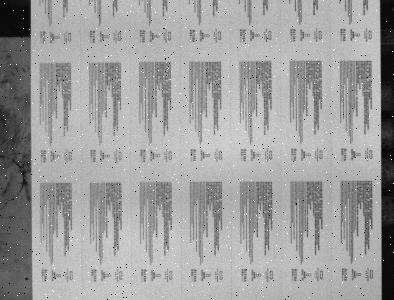backgroundclutter: (25, 277, 28, 280)
